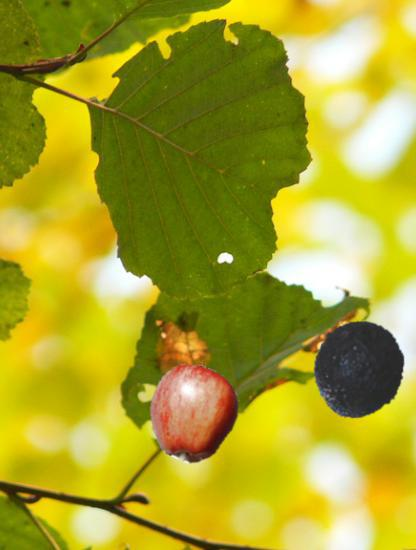Apple: (143, 361, 243, 461)
Avocado: (311, 321, 413, 423)
